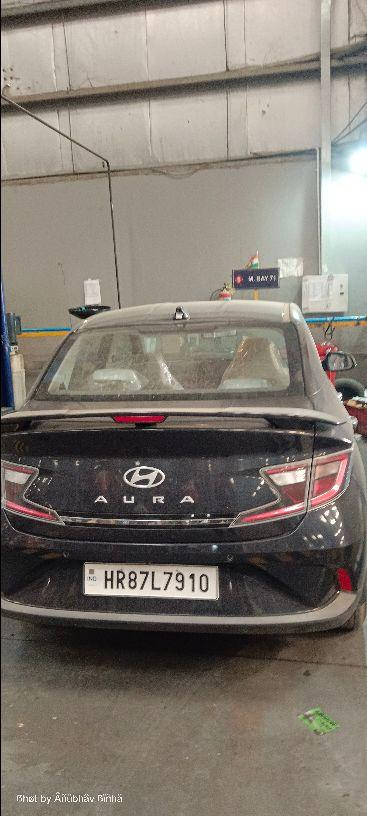license_plate: (81, 560, 219, 600)
